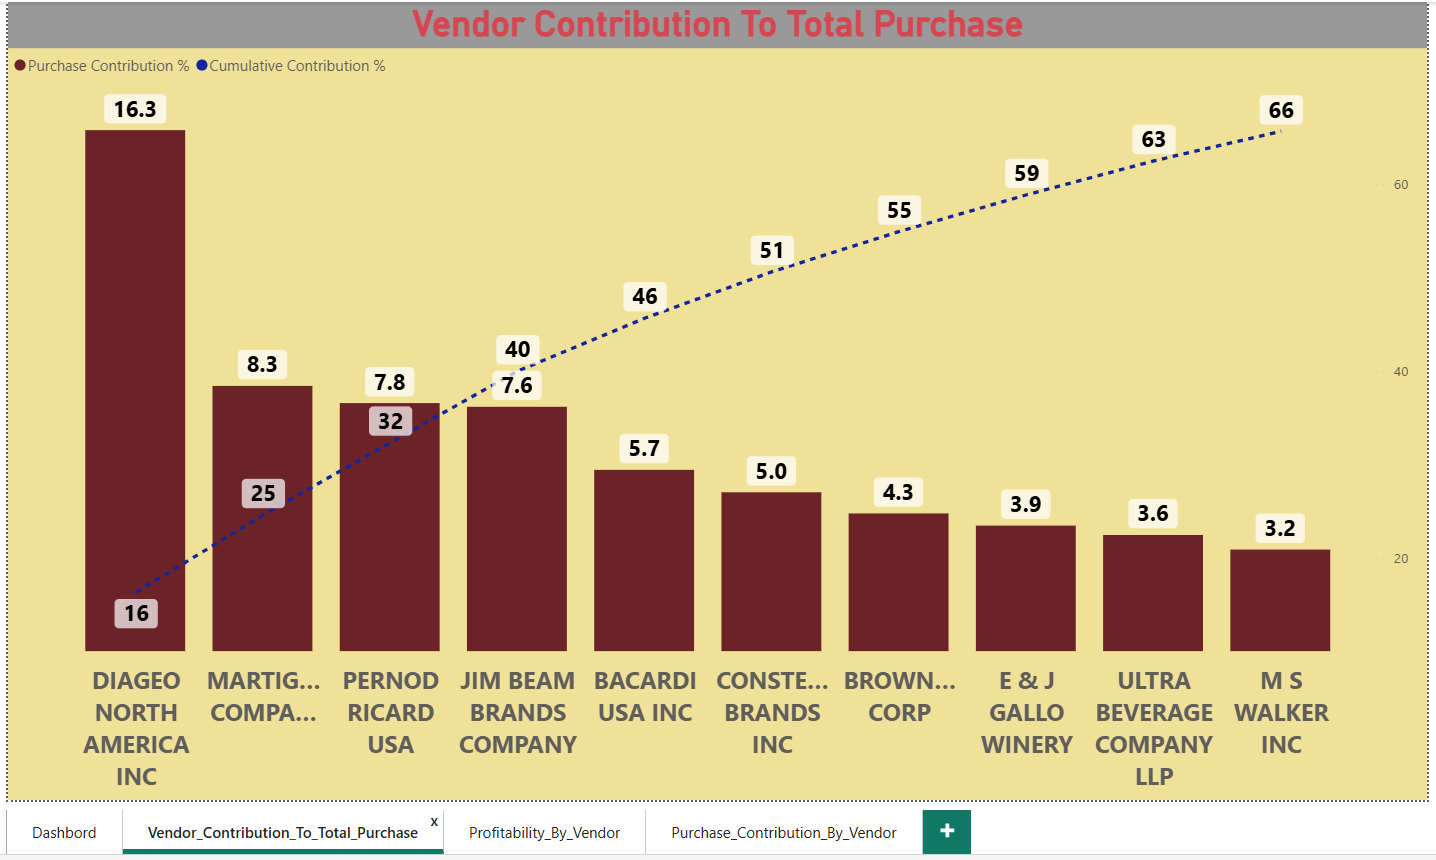

The dashboard page shown, as its layout file describes it:
{"tool":"powerbi","page":{"name":"Vendor_Contribution_To_Total_Purchase","canvas":[1280,720],"ordinal":1},"visuals":[{"type":"lineClusteredColumnComboChart","title":"Vendor Contribution To Total Purchase","fields":{"Category":["PurchaseContribution.VendorName"],"Y":["Sum(PurchaseContribution.PurchaseContribution%)"],"Y2":["Sum(PurchaseContribution.Cumulative_Contribution%)"]},"box":[0,0,1280,720.3],"z":0}]}

Visuals, with their boxes on the page's 1280x720 design canvas (x1, y1, x2, y2). These are canvas units, not pixel positions in the 1436x860 screenshot, which may show the page scaled, cropped or inside an application window:
"Vendor Contribution To Total Purchase" lineClusteredColumnComboChart: l=0, t=0, r=1280, b=720
